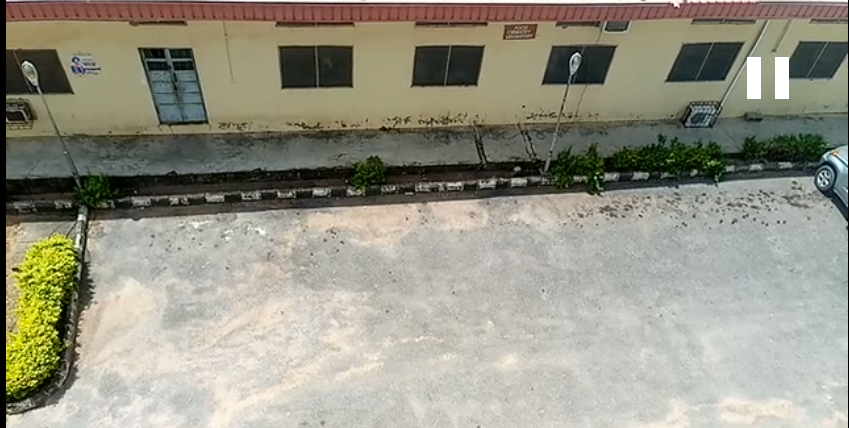four: (616, 147, 750, 397)
one: (54, 172, 220, 405)
three: (422, 166, 536, 390)
two: (263, 165, 387, 404)
